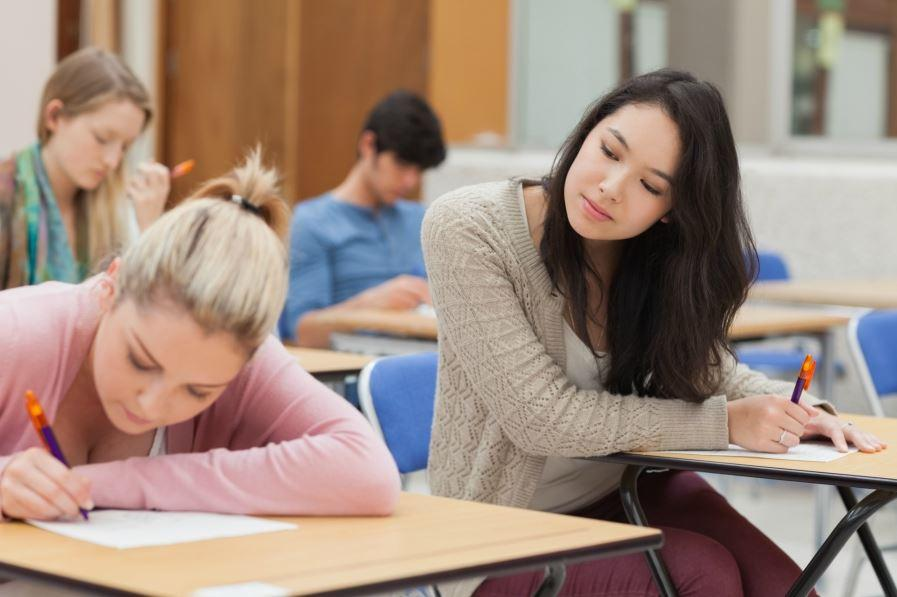student: (1, 132, 416, 537), (310, 51, 509, 232)
studentcopying: (400, 41, 812, 475)
